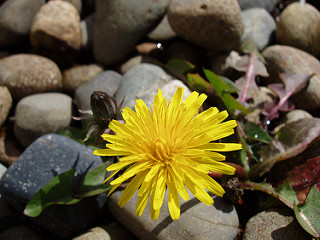dandelion yellow: (93, 85, 242, 223)
